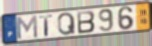6: (117, 6, 136, 31)
9: (98, 8, 115, 33)
B: (76, 10, 96, 35)
M: (15, 14, 40, 40)
Q: (57, 11, 77, 36)
T: (39, 14, 55, 37)
